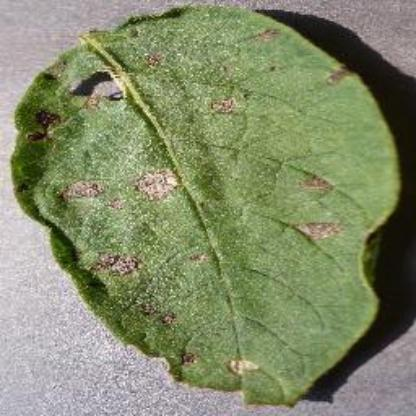Early-Blight: (8, 3, 416, 409)
